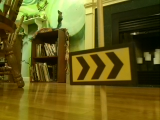right: (70, 48, 135, 83)
